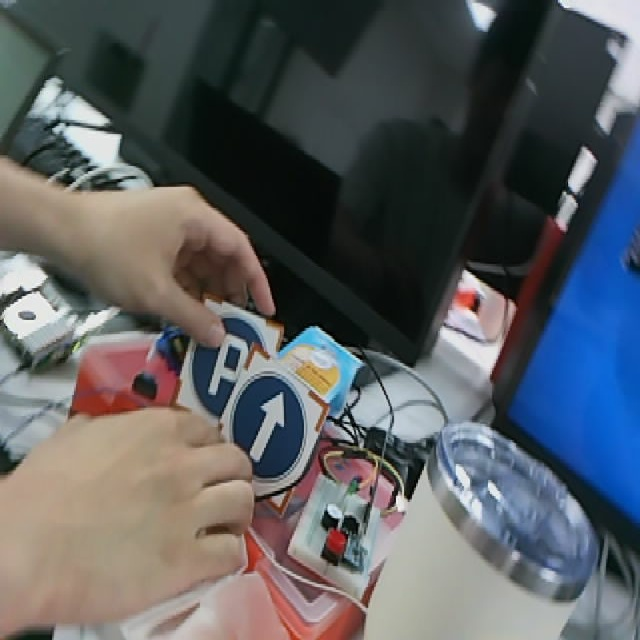parking: (176, 294, 278, 420)
straight: (218, 344, 325, 514)
